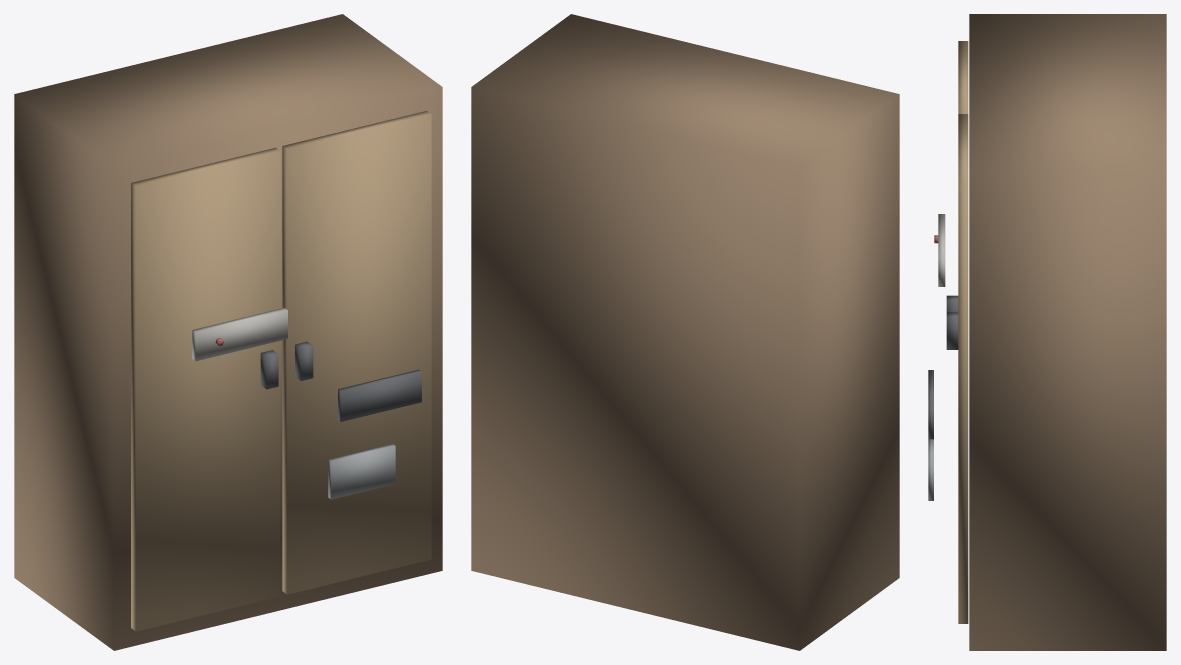
The model's file is dental_instrument_cabinet__weathered.glb.
The picture shows the model from 3 angles, left to right: view 1: azimuth 30°, elevation 25°; view 2: azimuth 150°, elevation 25°; view 3: azimuth 270°, elevation 25°; orthographic projection.
Visible parts, largest first — view 1: world; view 2: world; view 3: world.
Part boxes in pixels (box(x1,y1,x2,y2)): world: box(14, 14, 442, 650); world: box(471, 14, 899, 650); world: box(928, 14, 1166, 650).
Bounding box in the file's own units: 0.95 × 1.34 × 0.6041.
